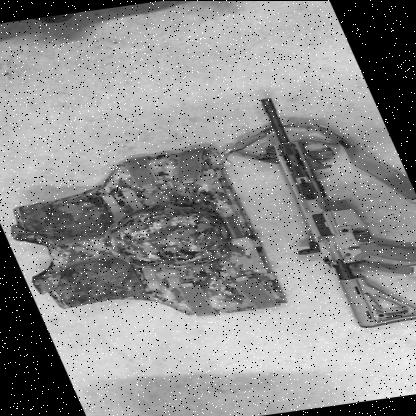rifle: (240, 86, 416, 338)
